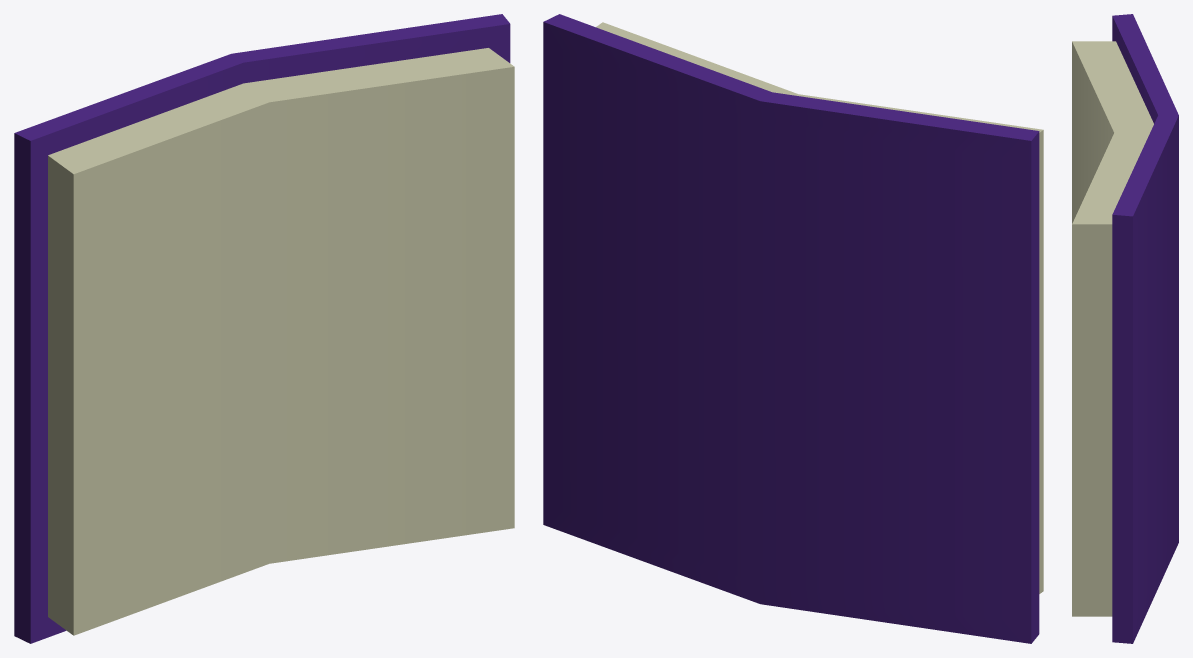
Rendered from libroHechizosMesh.fbx.
3 views of the same model, side by side, from view 1: azimuth 30°, elevation 25°; view 2: azimuth 150°, elevation 25°; view 3: azimuth 270°, elevation 25° (orthographic). The views are drawn at different scales.
Visible parts, largest first — view 1: polySurface9, polySurface10; view 2: polySurface10, polySurface9; view 3: polySurface10, polySurface9.
Boxes of the visible parts, x1,y1,x2,y2 form: polySurface9: [48, 48, 514, 635]; polySurface10: [14, 14, 510, 643]; polySurface10: [543, 14, 1039, 643]; polySurface9: [596, 22, 1043, 593]; polySurface10: [1112, 14, 1178, 643]; polySurface9: [1072, 41, 1153, 616].
Size of the model in its own units: 2.28 by 2.24 by 0.5083.
